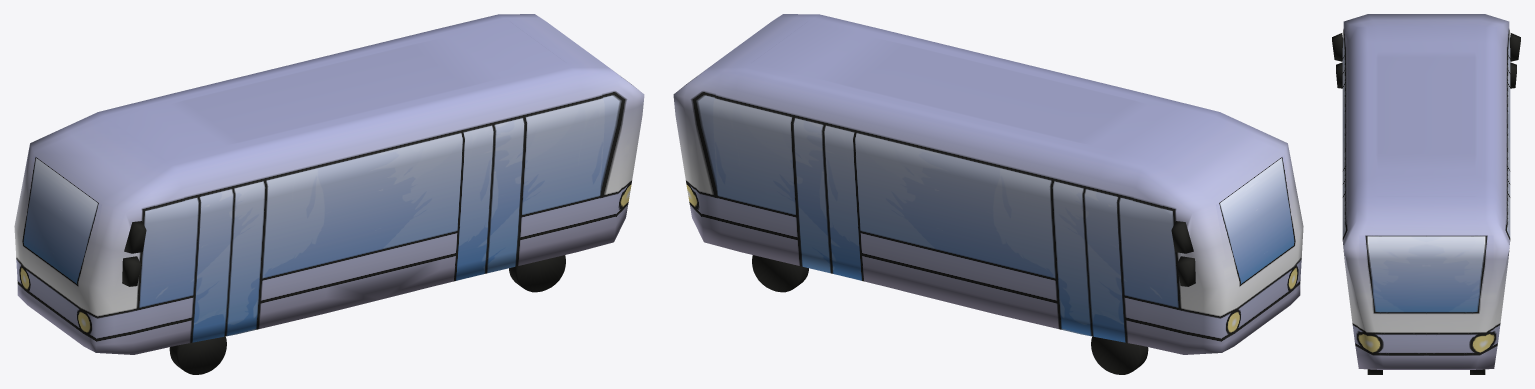
The model's file is bus.fbx.
3 views of the same model, side by side, from view 1: azimuth 30°, elevation 25°; view 2: azimuth 150°, elevation 25°; view 3: azimuth 270°, elevation 25° (orthographic). The views are drawn at different scales.
Parts seen in each view (by area): view 1: Cube; view 2: Cube; view 3: Cube.
Boxes of the visible parts, bbox=[...] form: Cube: bbox=[14, 14, 644, 374]; Cube: bbox=[673, 14, 1303, 374]; Cube: bbox=[1332, 14, 1520, 374].
Size of the model in its own units: 1885 by 716 by 647.
